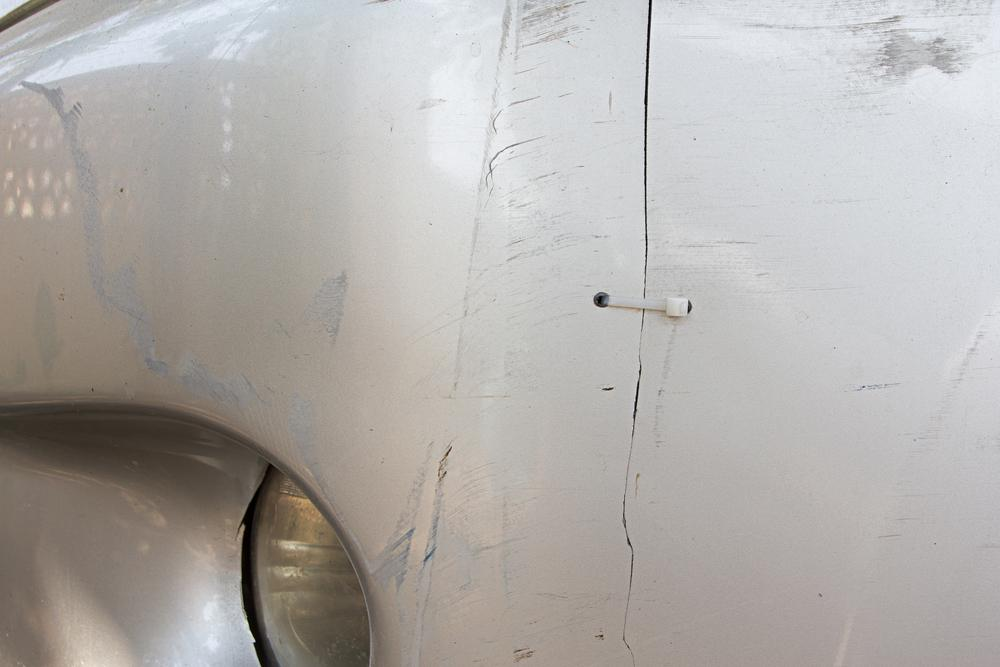crack: (621, 0, 654, 667)
scratch: (368, 0, 628, 667), (754, 0, 1000, 129)
